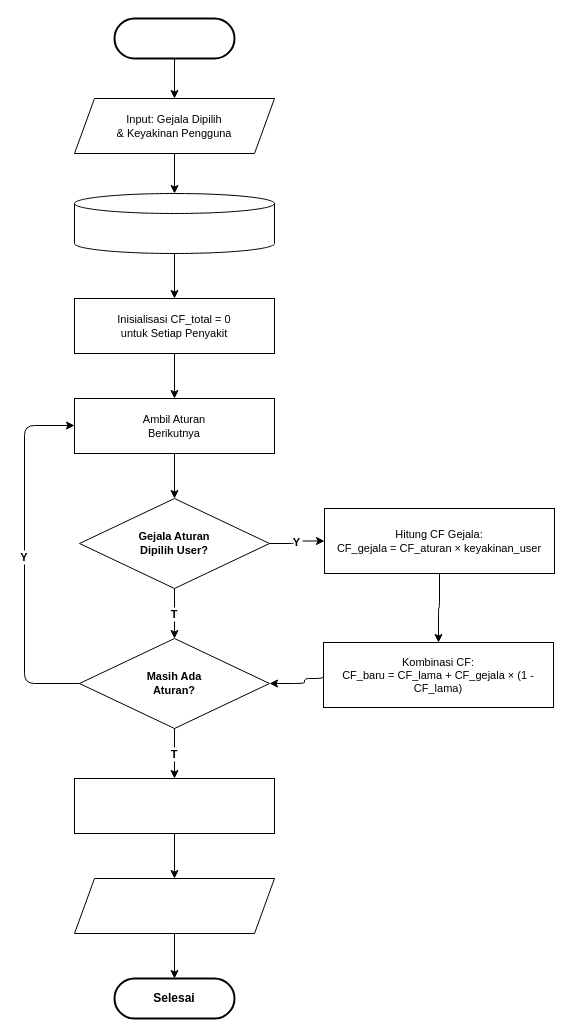
Image size: 572x1036. Some labels were removed from this diagram. Each missing label, with the centre of its shape:
"Ambil Semua Aturan CF dari Database" goes at (x=174, y=223).
"Mulai" goes at (x=174, y=38).
"Output: Daftar Penyakit + Nilai CF + Persentase" goes at (x=174, y=906).
"Urutkan Penyakit Berdasarkan CF Tertinggi" goes at (x=174, y=806).
